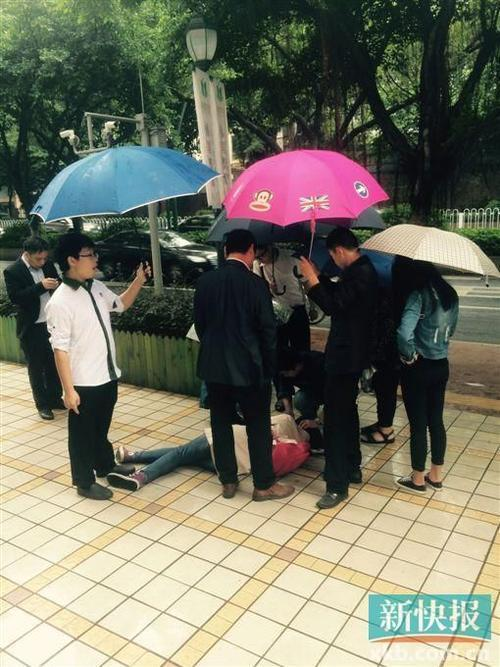Fall-Detected: (108, 395, 326, 499)
